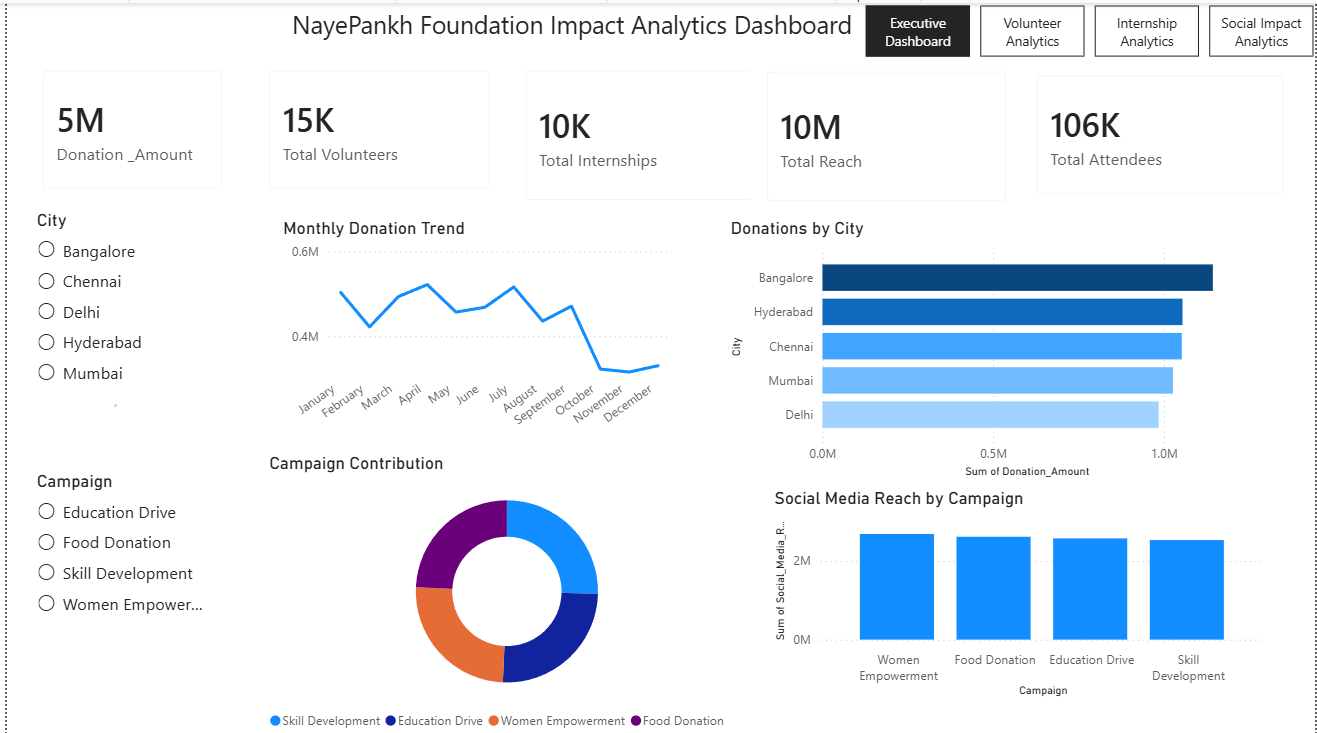

This screenshot's page, from the dashboard's own definition file:
{"tool":"powerbi","page":{"name":"Executive Dashboard","canvas":[1280,720],"ordinal":0},"visuals":[{"type":"lineChart","title":"Monthly Donation Trend","fields":{"Category":["Sheet1.Date.Variation.Date Hierarchy.Month"],"Y":["Sum(Sheet1.Donation_Amount)"]},"box":[265.3,210.7,388,225.3],"z":0},{"type":"clusteredBarChart","title":"Donations by City","fields":{"Category":["Sheet1.City"],"Y":["Sum(Sheet1.Donation_Amount)"]},"box":[702.7,210.7,514.7,258.7],"z":1000},{"type":"donutChart","title":"Campaign Contribution","fields":{"Category":["Sheet1.Campaign"],"Y":["Sum(Sheet1.Donation_Amount)"]},"box":[252,440,474.7,280],"z":2000},{"type":"columnChart","title":"Social Media Reach by Campaign","fields":{"Category":["Sheet1.Campaign"],"Y":["Sum(Sheet1.Social_Media_Reach)"]},"box":[745.3,474.7,490.7,209.3],"z":3000},{"type":"textbox","box":[273.3,0,586.7,53.3],"z":4000},{"type":"cardVisual","fields":{"Data":["Sheet1.Total Internships"]},"box":[490.7,49.3,272,161.3],"z":5000},{"type":"cardVisual","fields":{"Data":["Sheet1.Total Reach"]},"box":[726.7,50.7,268,161.3],"z":6000},{"type":"cardVisual","fields":{"Data":["Sheet1.Total Volunteers"]},"box":[240,49.3,250.7,150.7],"z":7000},{"type":"listSlicer","fields":{"Values":["Sheet1.City"]},"box":[24,201.3,186.7,201.3],"z":8000},{"type":"listSlicer","fields":{"Values":["Sheet1.Campaign"]},"box":[24,457.3,174.7,212],"z":9000},{"type":"textbox","box":[100,388,12,12],"z":10000},{"type":"cardVisual","fields":{"Data":["Sheet1.Total Attendees"]},"box":[990.7,53.3,276,150.7],"z":11000},{"type":"cardVisual","title":"Total Donations","fields":{"Data":["Sum(Sheet1.Donation_Amount)"]},"box":[18.7,49.3,209.3,150.7],"z":12000},{"type":"pageNavigator","box":[840.1,2.4,440.2,50.1],"z":12001}]}

Visuals, with their boxes in screenshot pixels (x1, y1, x2, y2), scaled from the page's 1280x720 canvas onto the 1317x733 screenshot:
"Monthly Donation Trend" lineChart: 273:215:672:444
"Donations by City" clusteredBarChart: 723:215:1253:478
"Campaign Contribution" donutChart: 259:448:748:732
"Social Media Reach by Campaign" columnChart: 767:483:1272:696
textbox: 281:0:885:54
cardVisual - Sheet1.Total Internships: 505:50:785:214
cardVisual - Sheet1.Total Reach: 748:52:1023:216
cardVisual - Sheet1.Total Volunteers: 247:50:505:204
listSlicer - Sheet1.City: 25:205:217:410
listSlicer - Sheet1.Campaign: 25:466:204:681
textbox: 103:395:115:407
cardVisual - Sheet1.Total Attendees: 1019:54:1303:208
"Total Donations" cardVisual: 19:50:235:204
pageNavigator: 864:2:1316:53
